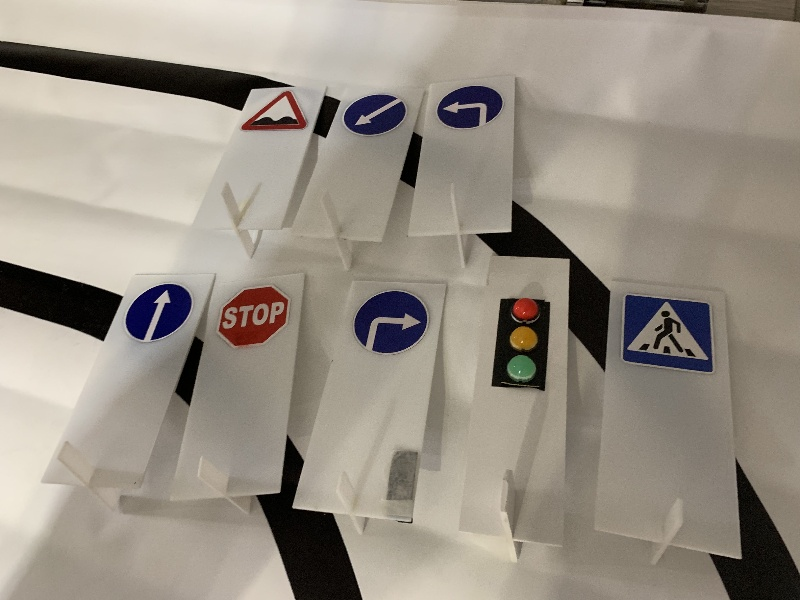Left: (434, 85, 505, 128)
Nerov: (239, 91, 307, 132)
Right: (353, 291, 428, 353)
Stop: (218, 284, 290, 351)
forw: (120, 283, 193, 344)
pesh: (623, 294, 712, 373)
prep: (342, 93, 406, 137)
